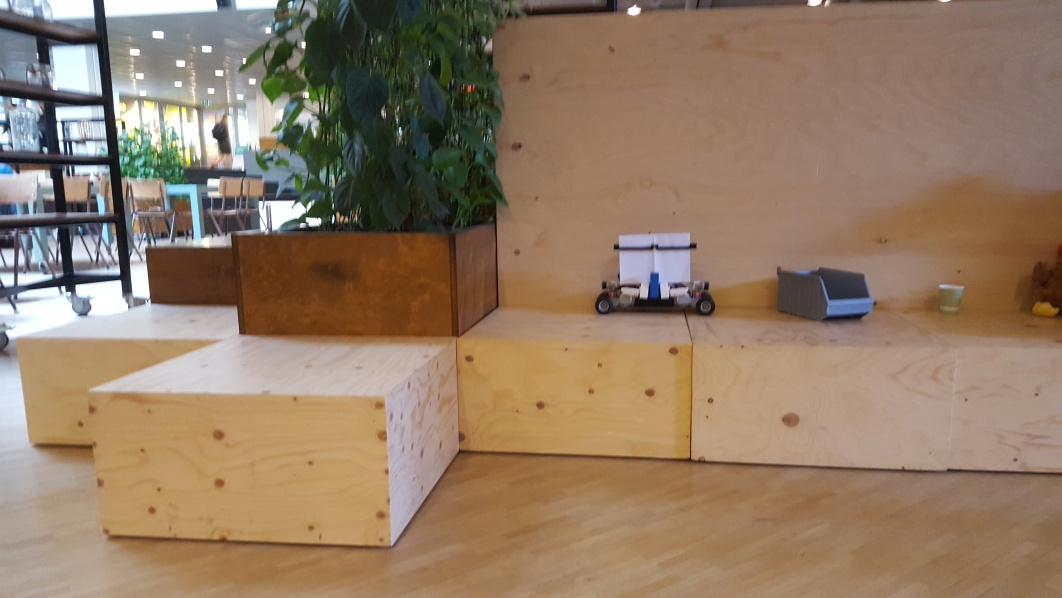car: (596, 232, 717, 318)
chicken: (1032, 248, 1062, 317)
cup: (936, 279, 965, 314)
tray: (774, 265, 873, 321)
